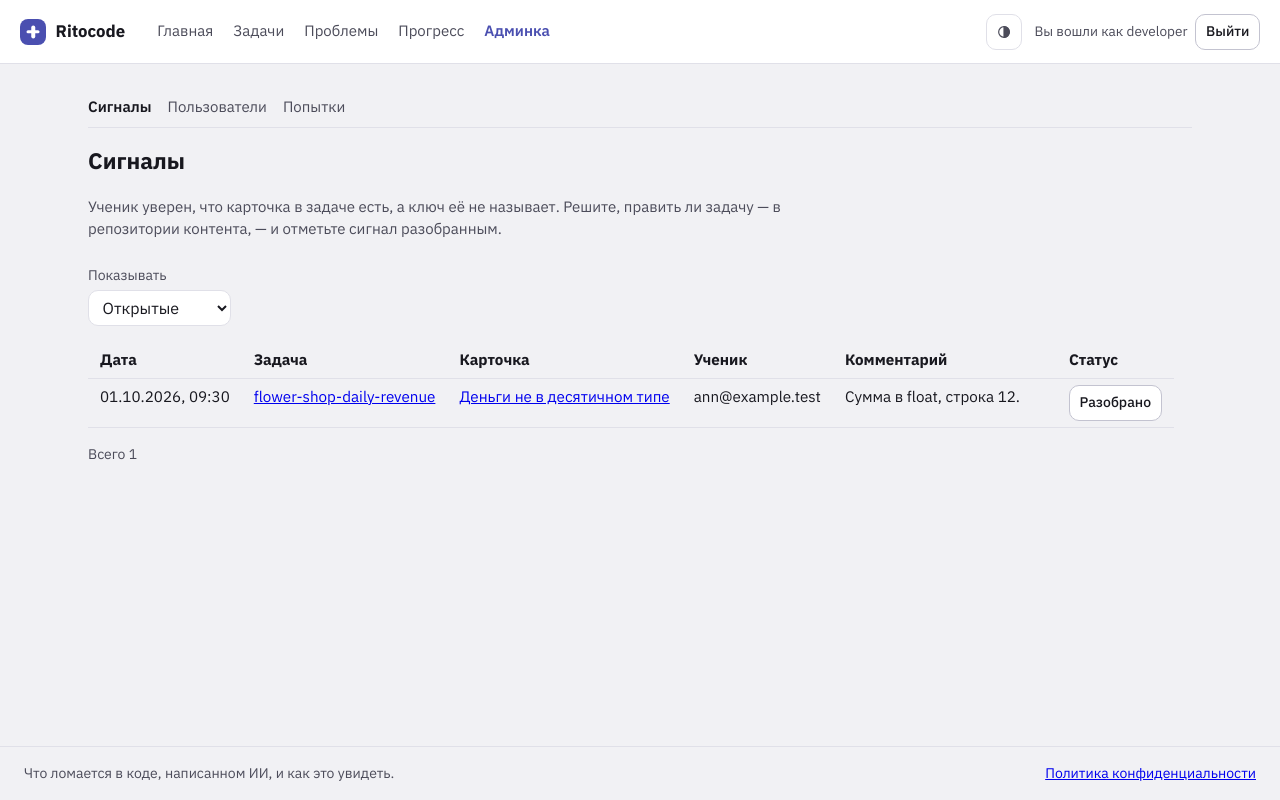
Test: the signals page › says so when resolving fails, and keeps the signal
Click the button "Разобрано" at point(1115, 403), box [1069,385,1162,421]
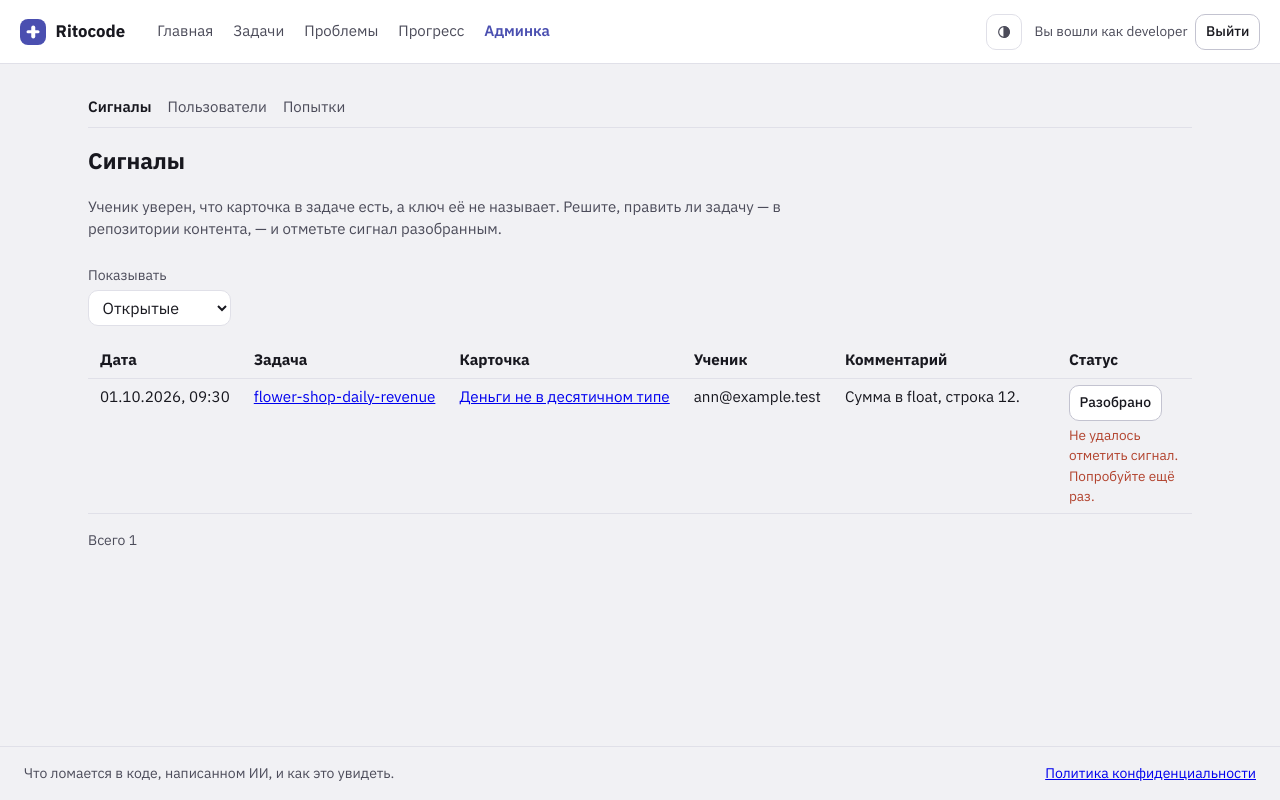
Now the message reads "Не удалось отметить сигнал. Попробуйте ещё раз.", box [1069,426,1178,505]
